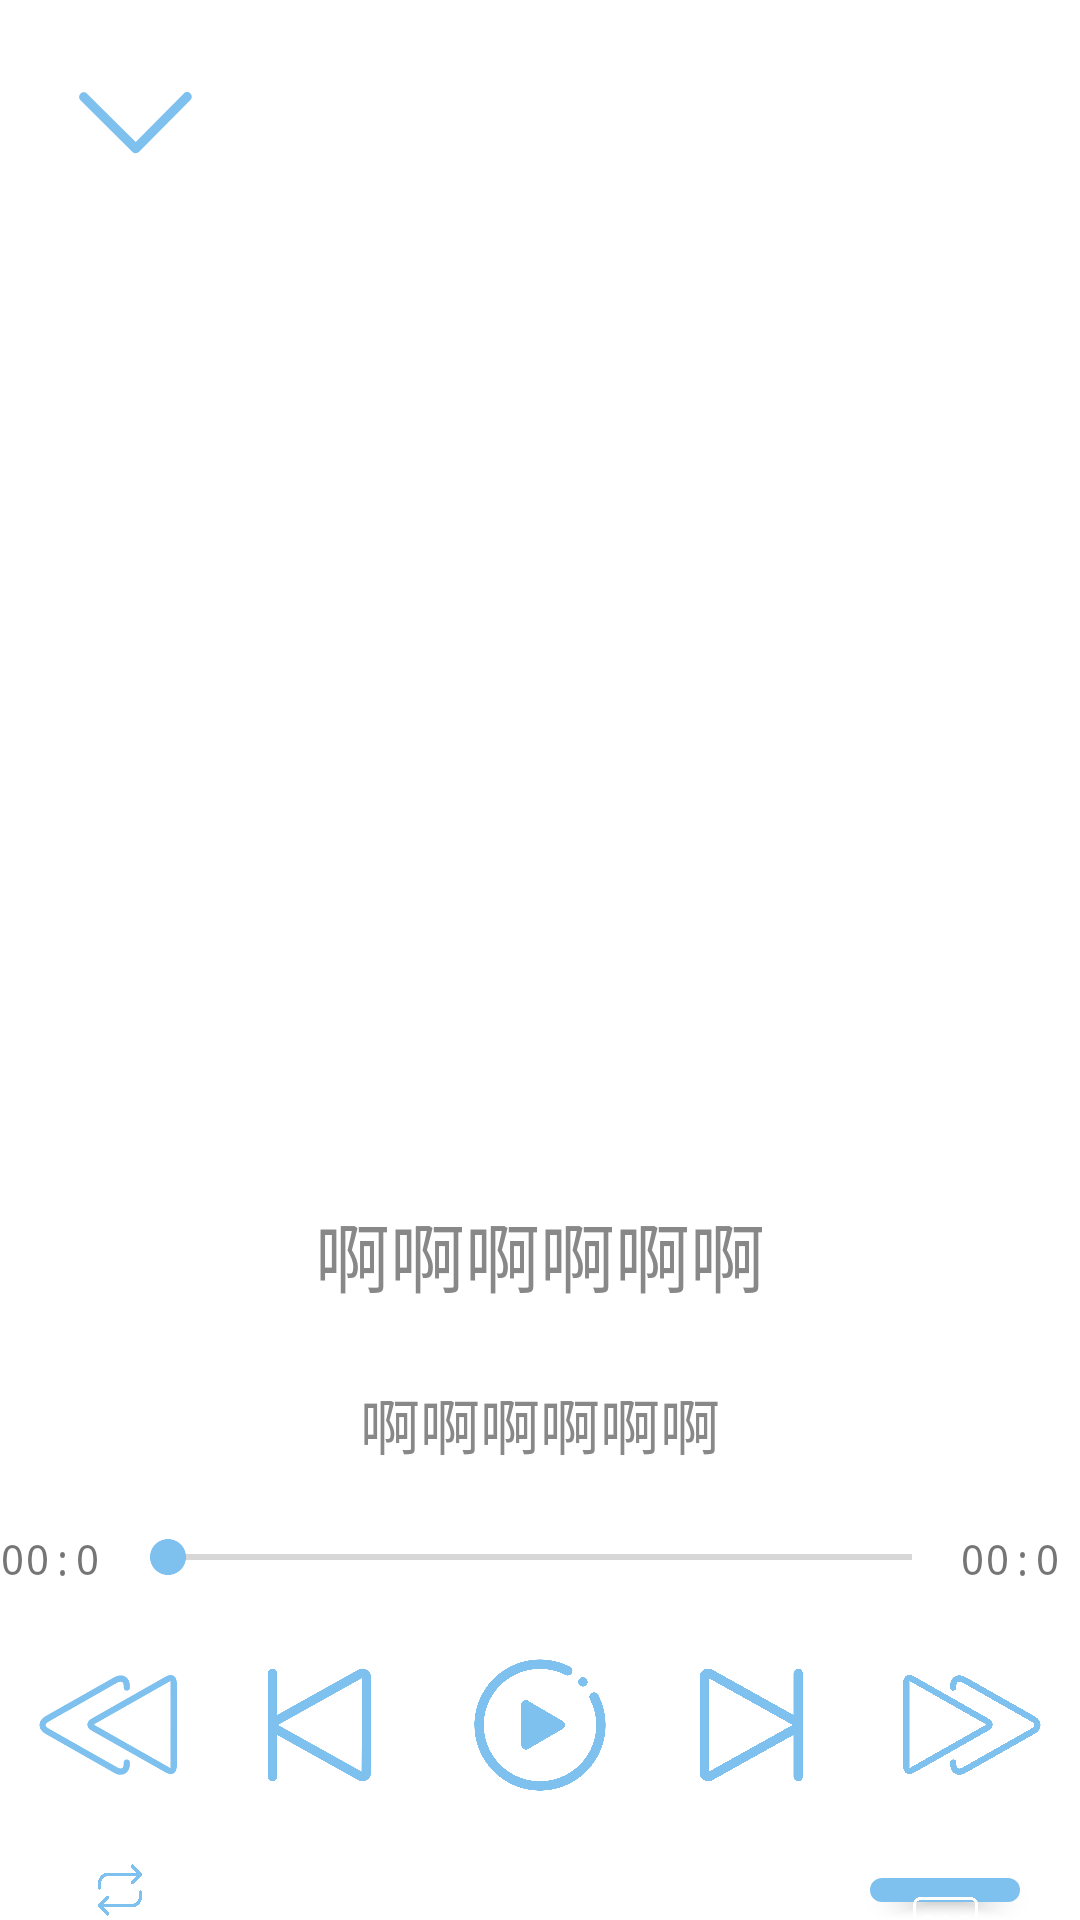

Screen size 1080*1920. Icon name, then its center in pixels as [x,y]:
go down: [135,123]
next: [751,1725]
play: [540,1725]
playmode listloop: [120,1890]
pre: [319,1725]
speeddown: [108,1725]
speedup: [972,1725]
